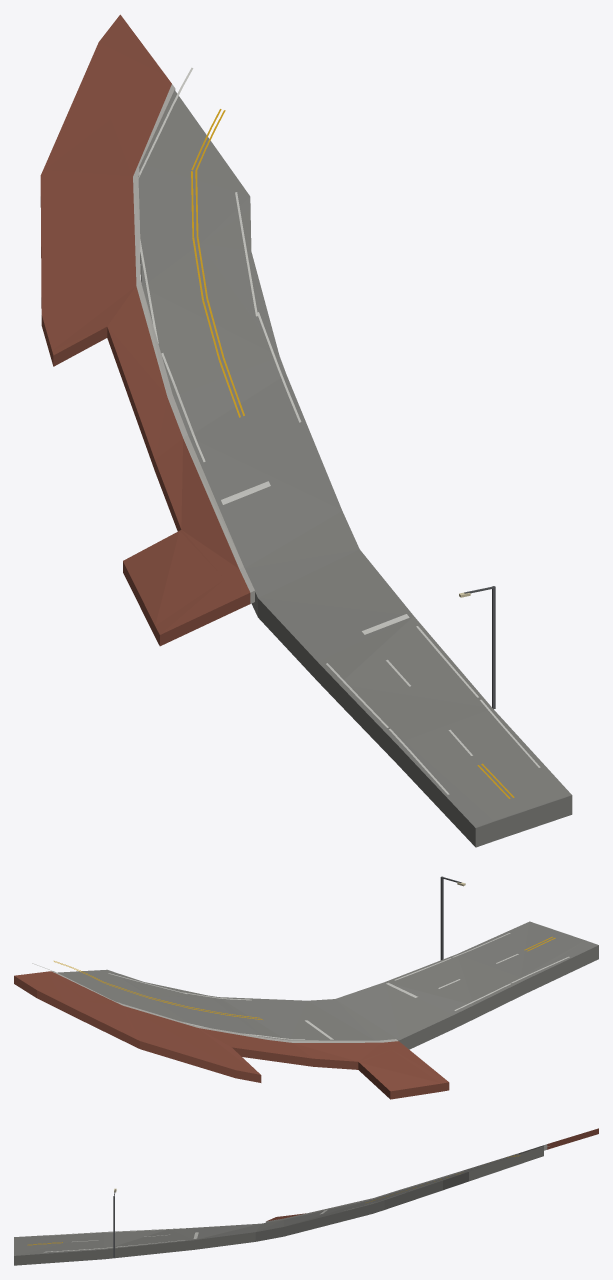
3 renders of one model, top to bottom at view 1: azimuth 30°, elevation 25°; view 2: azimuth 150°, elevation 25°; view 3: azimuth 270°, elevation 25°, orthographic. The views are drawn at different scales.
Bounding box in the file's own units: 19.85 × 21.47 × 65.22.
